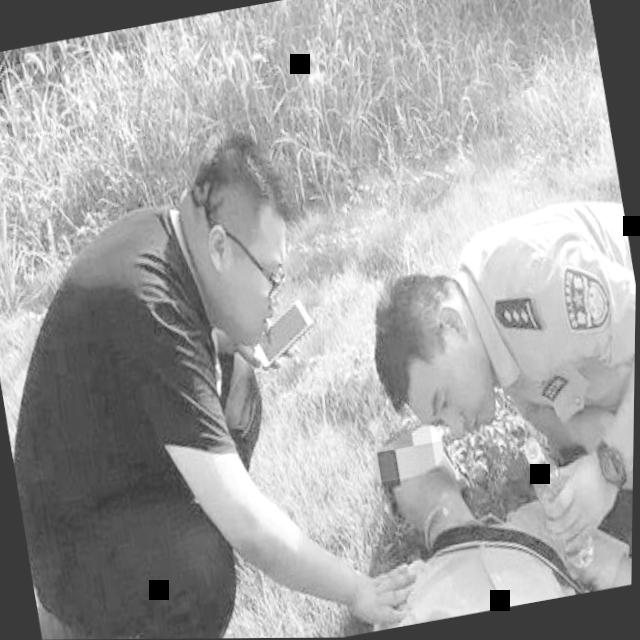Fall-Detected: (288, 360, 636, 638)
